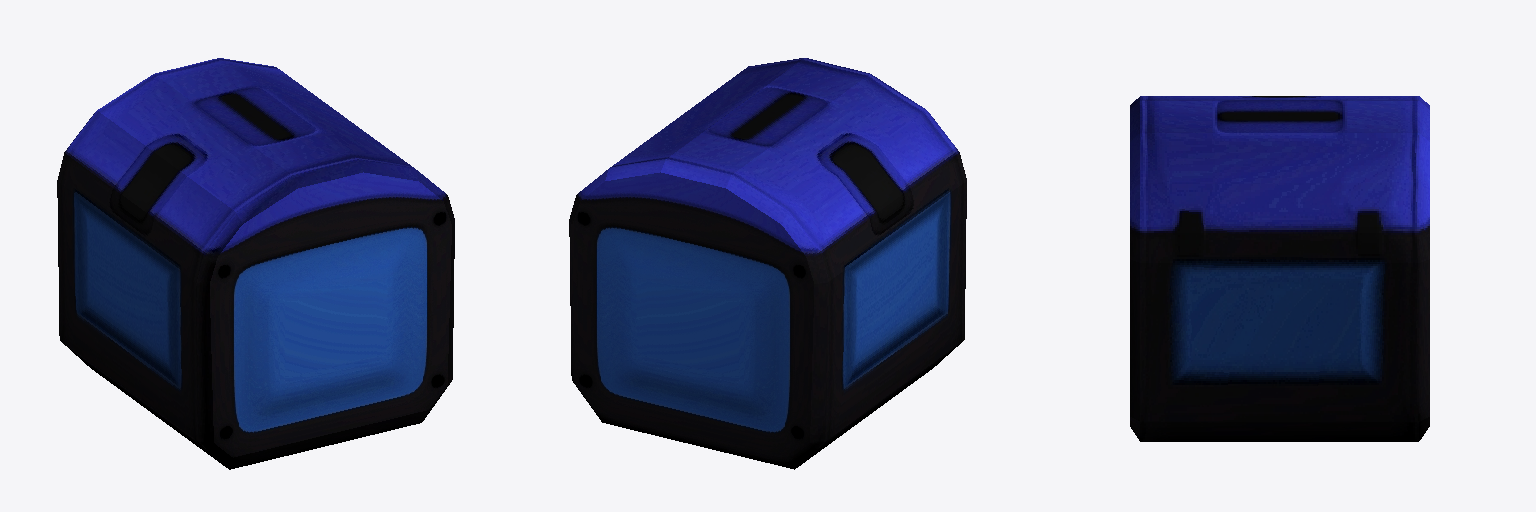
3 renders of one model, left to right at view 1: azimuth 30°, elevation 25°; view 2: azimuth 150°, elevation 25°; view 3: azimuth 270°, elevation 25°, orthographic.
Visible parts, largest first — view 1: Blue_Cube.010; view 2: Blue_Cube.010; view 3: Blue_Cube.010.
Boxes of the visible parts, box(x1,y1,x2,y2) form: Blue_Cube.010: box(57, 58, 454, 469); Blue_Cube.010: box(569, 58, 966, 469); Blue_Cube.010: box(1130, 96, 1429, 441).
Bounding box in the file's own units: 1.97 × 2.03 × 1.98.
1 materials, 1 textured.